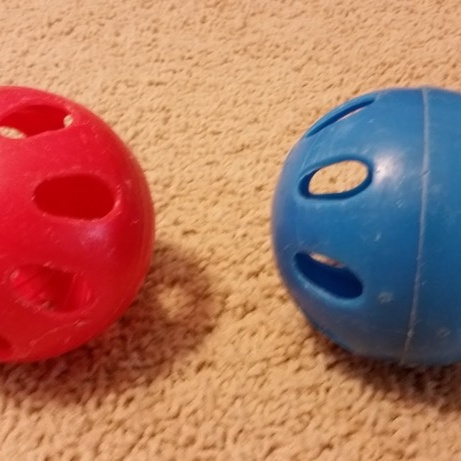ball: (267, 83, 461, 374), (0, 79, 163, 374)
